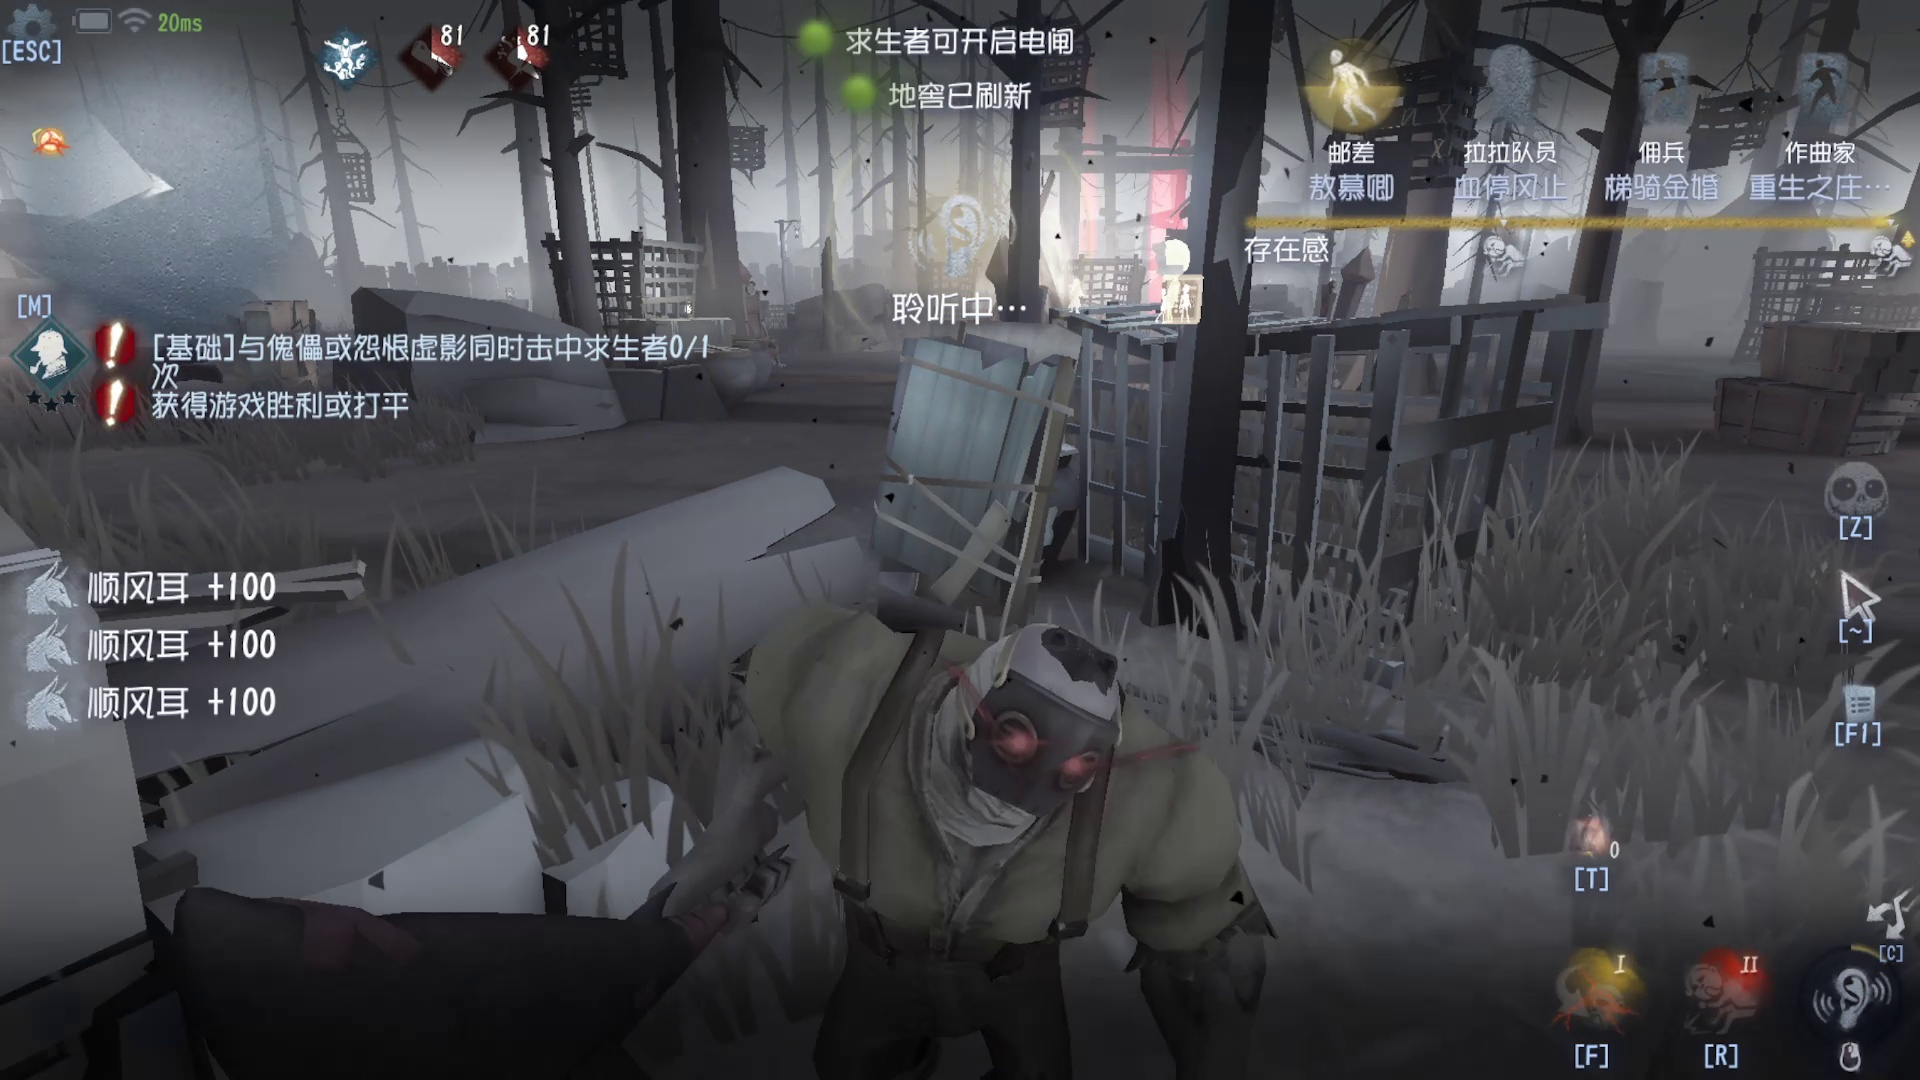木板: (841, 330, 1044, 632)
狂欢之椅: (713, 269, 796, 396)
设置: (1, 1, 76, 76)
